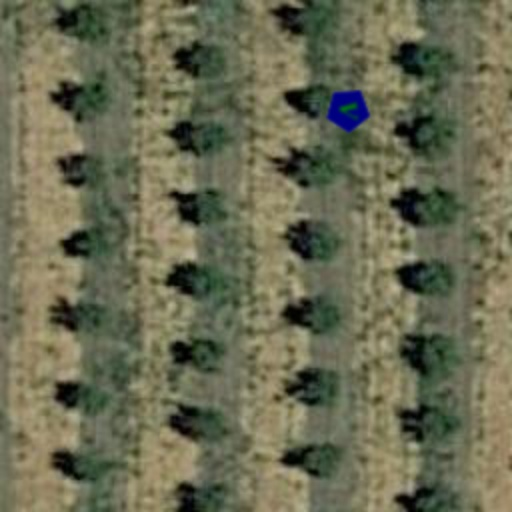pentagon: (322, 84, 374, 136)
